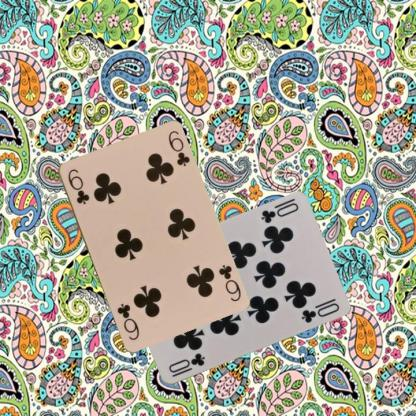10c: (258, 196, 300, 225), (166, 351, 206, 374)
6c: (64, 166, 90, 206), (216, 262, 242, 302)
